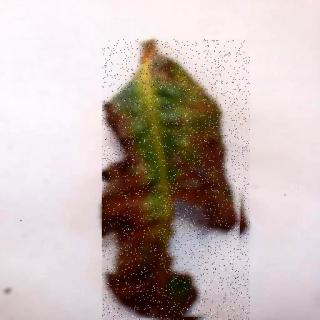Algal Leaf: (103, 40, 251, 320)
